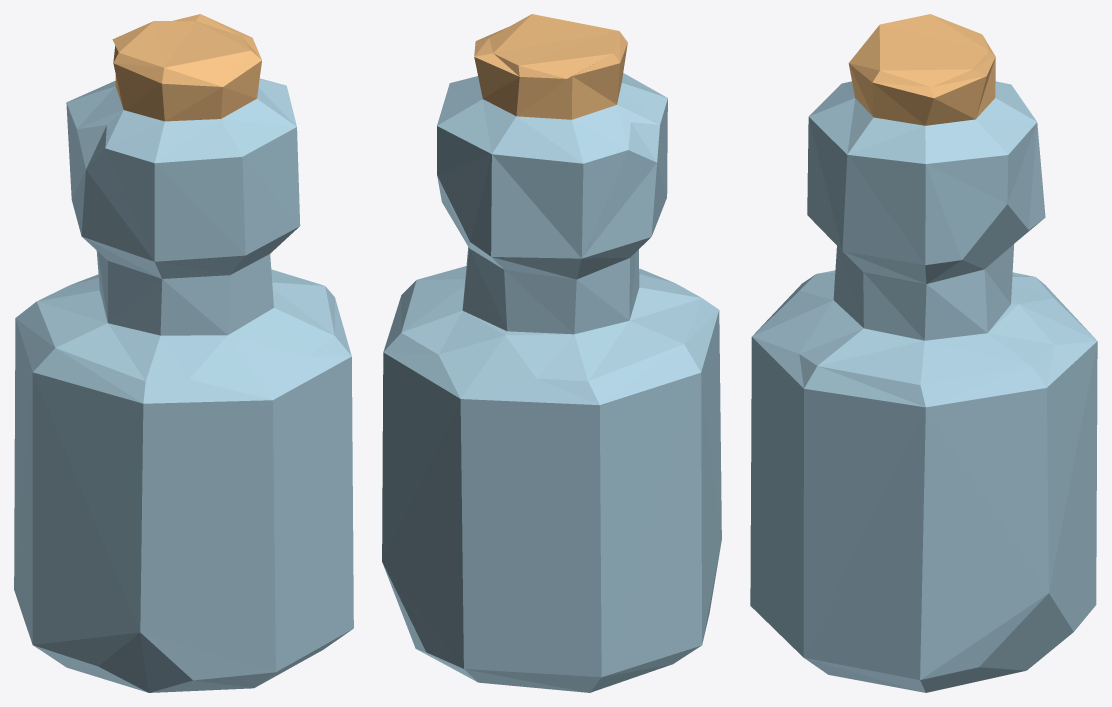
Rendered from SFHW_Bottle_Liquid_011.fbx.
3 renders of one model, left to right at view 1: azimuth 30°, elevation 25°; view 2: azimuth 150°, elevation 25°; view 3: azimuth 270°, elevation 25°, orthographic.
Parts seen in each view (by area): view 1: SFHW_Bottle_Liquid_011; view 2: SFHW_Bottle_Liquid_011; view 3: SFHW_Bottle_Liquid_011.
Boxes of the visible parts, x1,y1,x2,y2 form: SFHW_Bottle_Liquid_011: (14, 14, 353, 692); SFHW_Bottle_Liquid_011: (382, 14, 721, 692); SFHW_Bottle_Liquid_011: (750, 14, 1097, 692).
Size of the model in its own units: 5.09 by 9.62 by 5.14.
